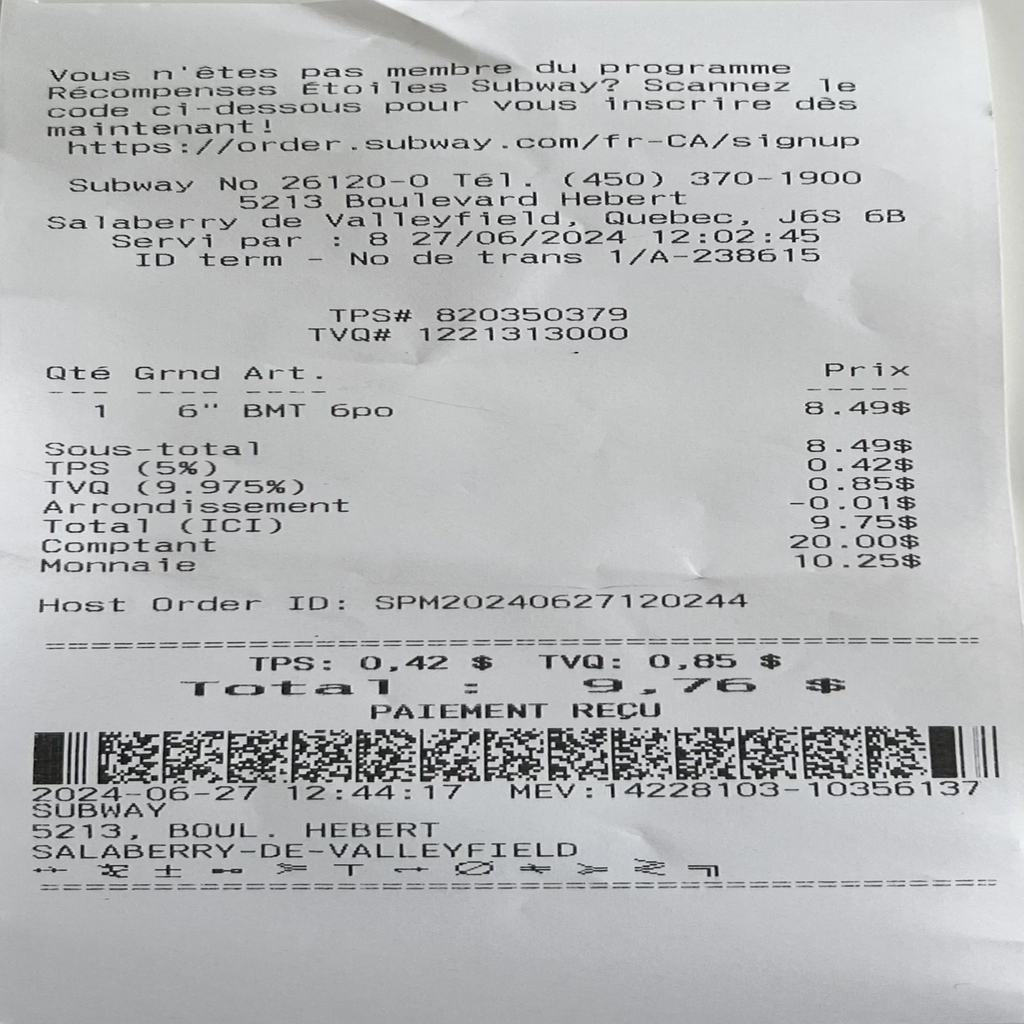recipt: (6, 2, 1022, 1018)
